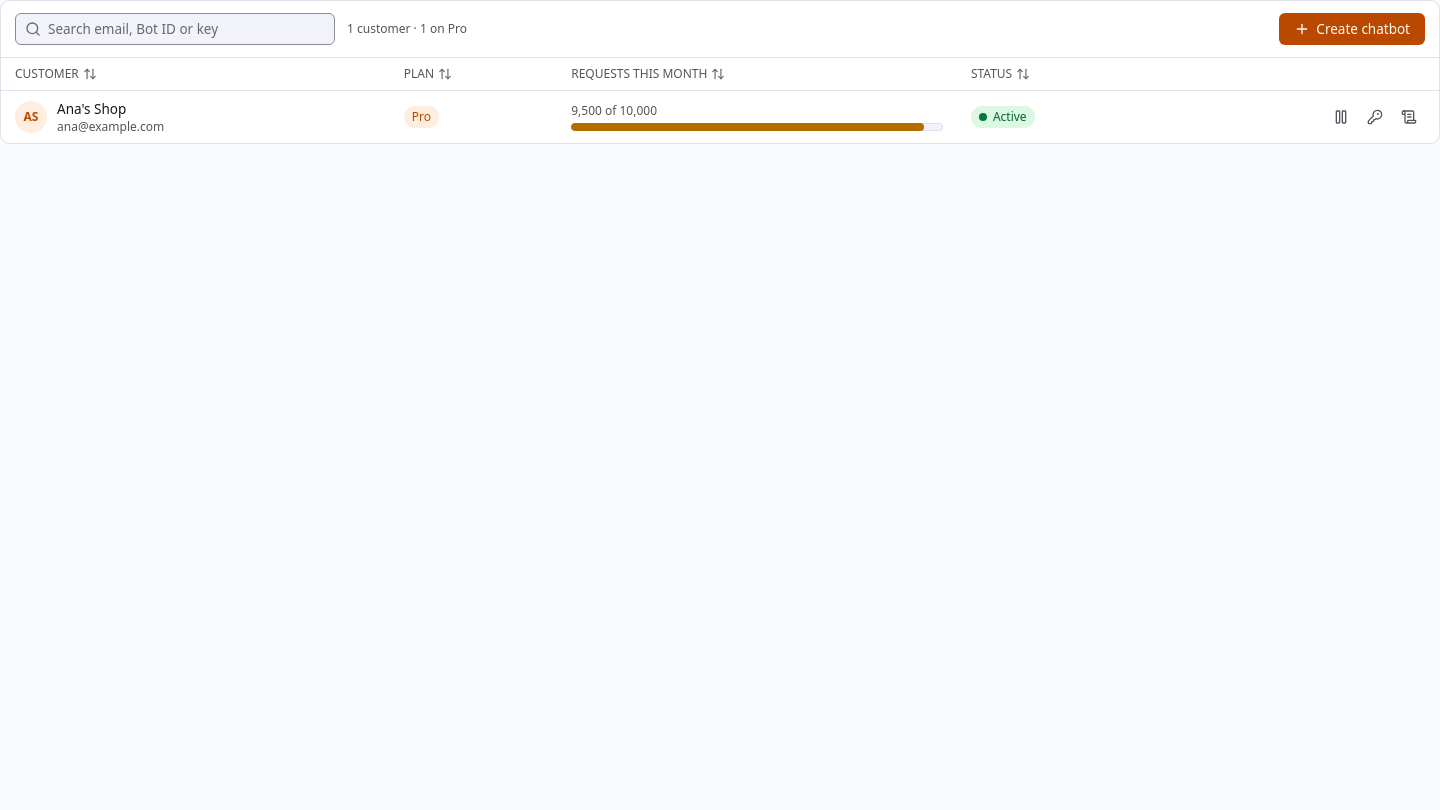
Test: deletes only after confirming
This screenshot has width=1440, height=810.
What coordinates should you click on to do the following:
click the row "AS Ana's Shop ana@example.com Pro 9,500 of 10,000 Active"
I would click on:
 (31, 117)
Its box is 1,90 -> 1439,143.
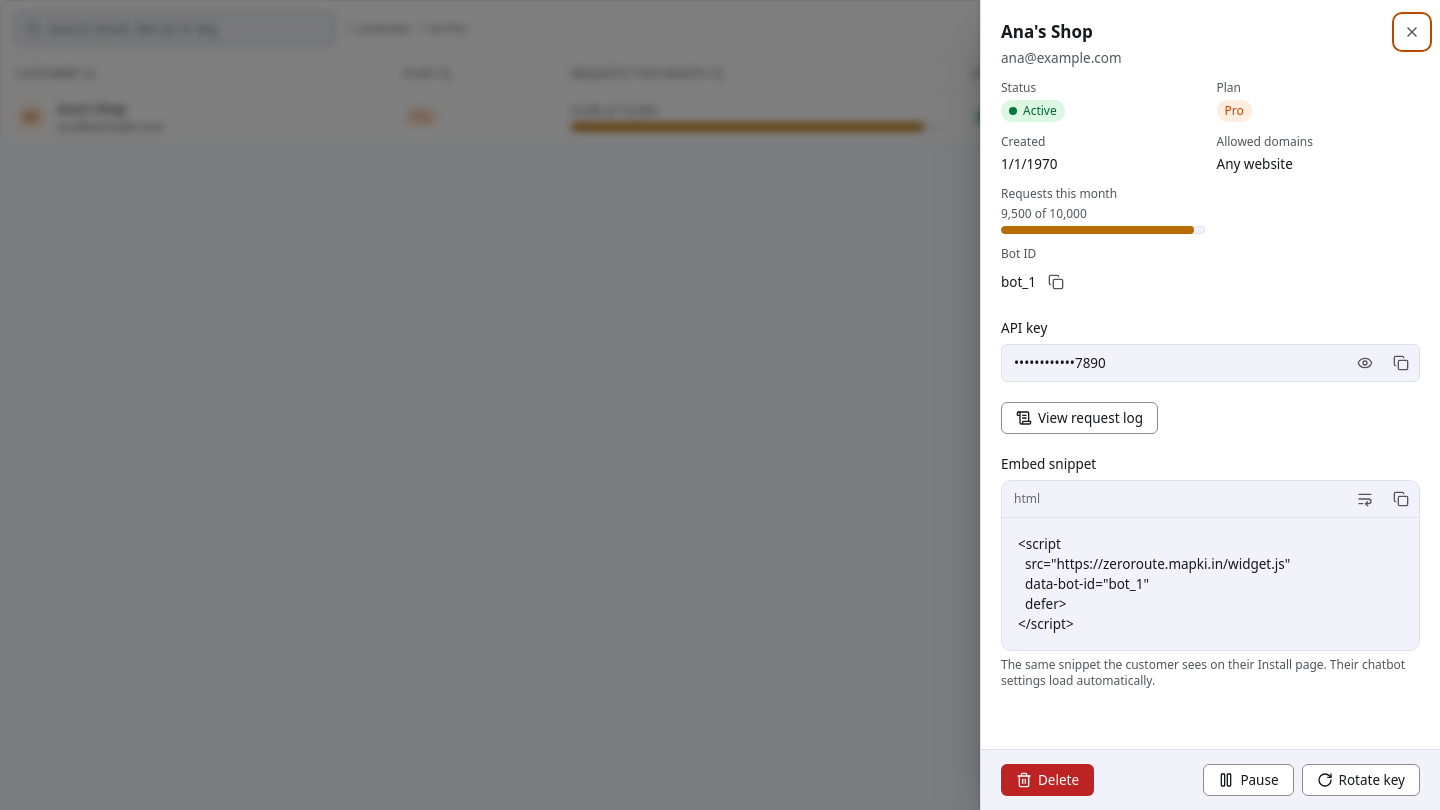
What coordinates should you click on to do the following:
click the button "Delete"
I would click on:
 (1048, 780)
Its box is 1001,764 -> 1094,796.
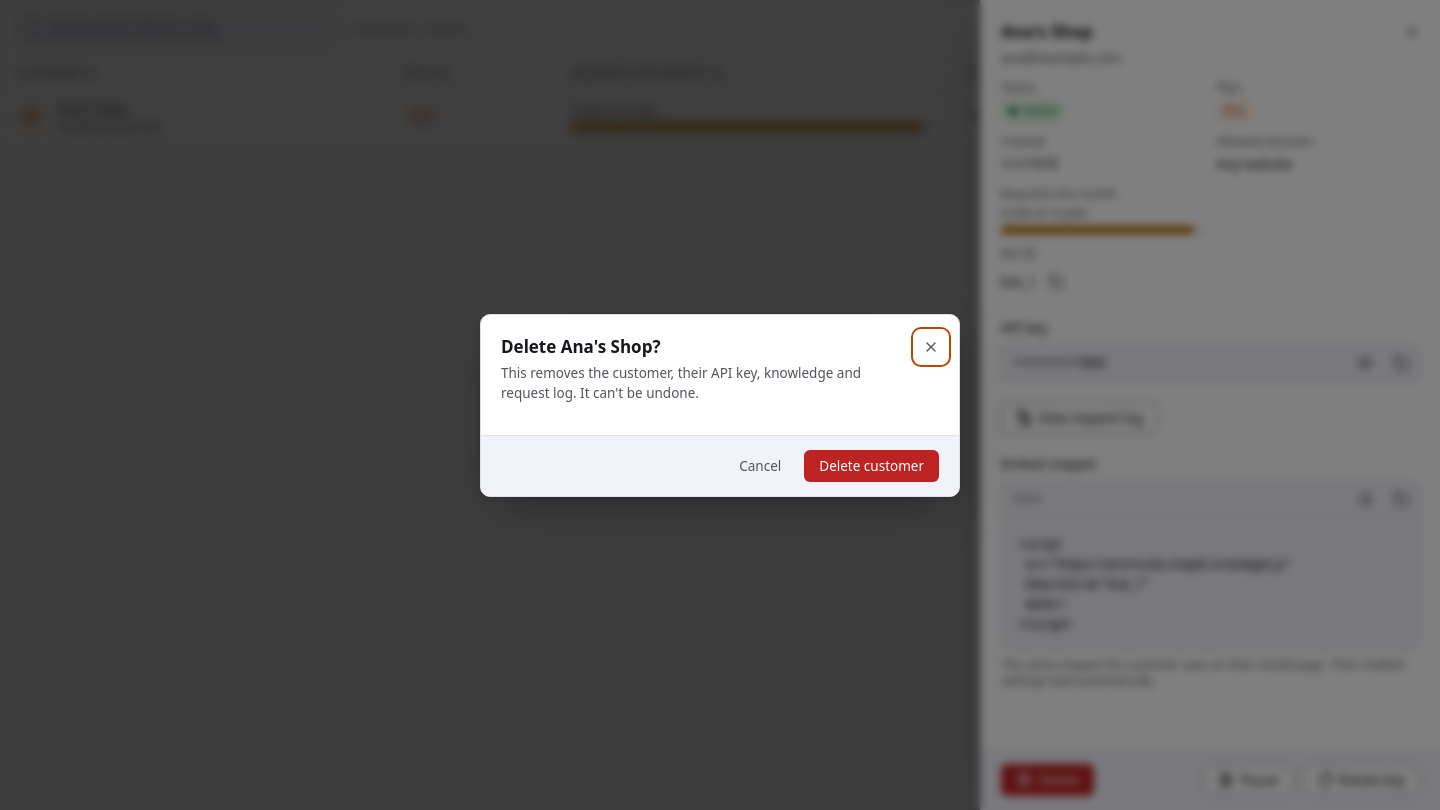
What coordinates should you click on to do the following:
click the button "Delete customer"
I would click on:
 (872, 466)
Its box is 804,450 -> 939,482.
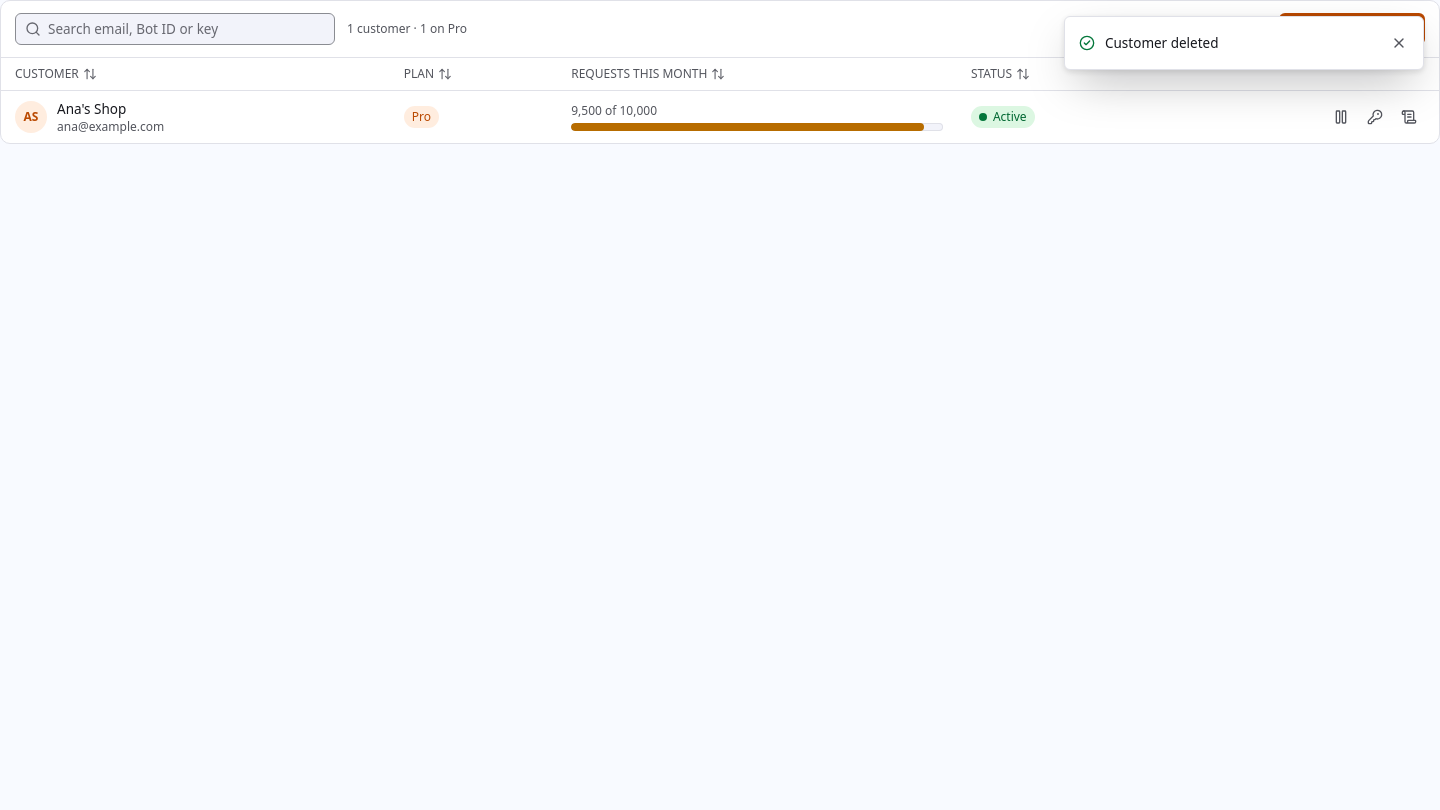
Check: the text "Customer deleted" is shown, box 1105,34 -> 1218,52
